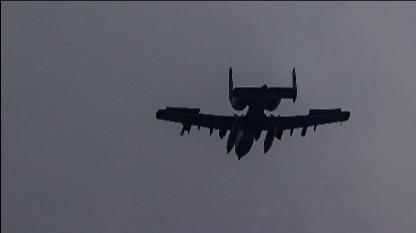A10: (154, 64, 350, 160)
